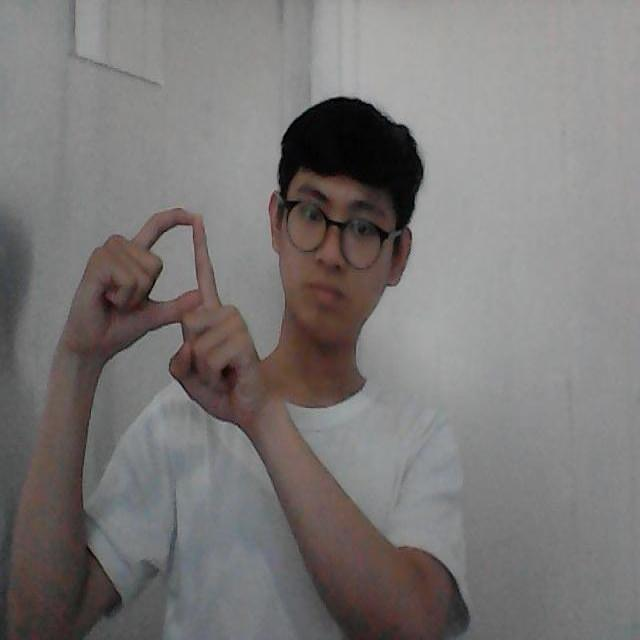D: (105, 201, 242, 361)
